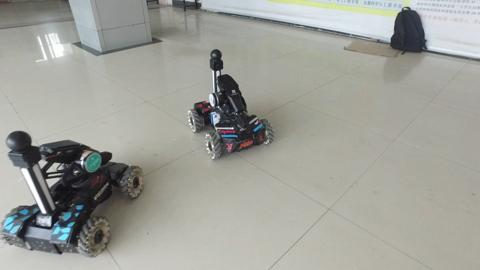bag: (381, 7, 429, 57)
chariot: (1, 128, 150, 257), (181, 45, 271, 169)
